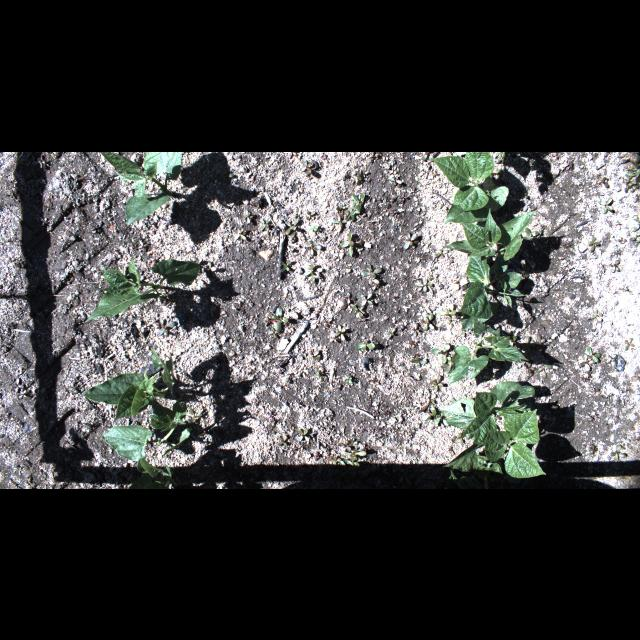crop: (86, 256, 202, 322), (80, 346, 174, 422), (444, 408, 546, 478), (100, 151, 182, 225), (440, 381, 534, 445), (101, 398, 193, 462), (429, 152, 509, 224), (460, 250, 530, 330), (448, 319, 530, 385), (442, 208, 536, 262), (446, 462, 516, 488), (128, 458, 182, 488), (496, 151, 508, 159)
weed: (264, 307, 290, 331), (341, 231, 362, 255), (360, 262, 382, 280), (342, 446, 366, 462), (430, 344, 450, 362), (157, 318, 176, 336), (522, 226, 540, 244), (577, 354, 595, 371), (422, 408, 438, 427), (350, 192, 366, 210), (284, 216, 300, 234), (330, 212, 348, 228), (428, 374, 444, 392), (536, 362, 552, 380), (610, 444, 626, 462), (300, 158, 316, 176), (403, 230, 417, 250), (413, 276, 432, 290), (304, 240, 322, 254), (598, 196, 612, 214), (198, 260, 218, 272), (434, 412, 451, 426), (187, 410, 203, 424), (332, 324, 346, 340), (586, 346, 600, 362), (422, 312, 434, 330), (486, 168, 504, 180), (588, 236, 600, 254), (442, 354, 454, 372), (355, 342, 375, 352), (409, 357, 429, 367), (339, 459, 361, 468), (258, 216, 272, 230), (359, 291, 373, 305), (308, 348, 320, 364), (326, 455, 342, 467), (522, 361, 536, 374), (304, 264, 314, 282), (438, 306, 456, 316), (630, 214, 640, 232), (535, 332, 545, 350), (628, 168, 638, 185), (278, 259, 290, 273), (342, 292, 356, 304), (352, 302, 364, 316), (297, 428, 309, 442), (337, 440, 351, 452), (590, 308, 602, 322), (433, 247, 449, 257), (597, 175, 609, 188), (236, 227, 248, 239), (336, 202, 348, 214), (349, 198, 359, 212), (314, 368, 324, 382), (625, 178, 635, 192), (610, 258, 620, 272), (624, 336, 634, 350), (386, 326, 396, 339), (522, 336, 530, 352), (356, 168, 368, 178), (277, 436, 287, 448), (457, 432, 467, 444), (630, 230, 640, 242), (244, 210, 252, 224), (508, 334, 516, 348), (346, 207, 354, 220), (267, 328, 277, 338), (348, 439, 358, 449), (622, 172, 632, 182), (588, 444, 598, 454), (522, 266, 532, 276), (282, 151, 298, 157), (412, 322, 418, 336), (306, 209, 314, 219), (618, 236, 628, 244), (589, 386, 599, 394), (428, 393, 436, 402), (311, 223, 319, 231), (421, 152, 429, 160), (530, 338, 534, 354), (345, 375, 351, 385), (496, 154, 502, 164), (615, 220, 621, 230), (619, 284, 629, 290), (450, 397, 456, 405), (493, 414, 501, 420), (586, 416, 594, 420)
